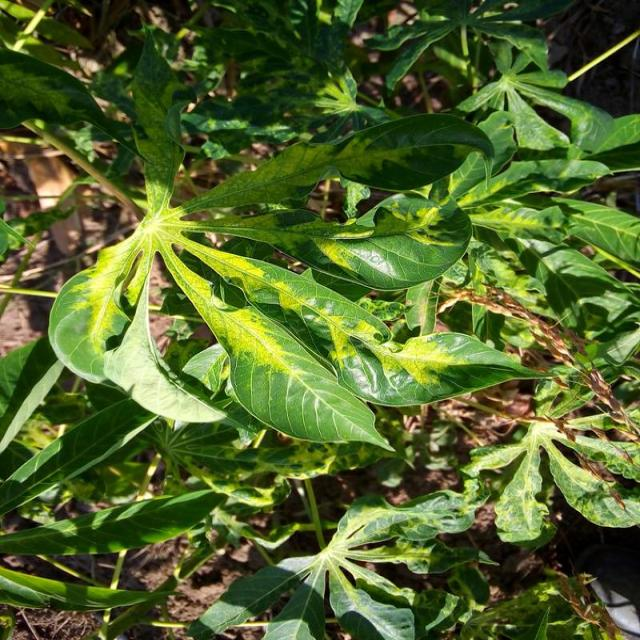cassava leaf: (37, 27, 543, 451)
